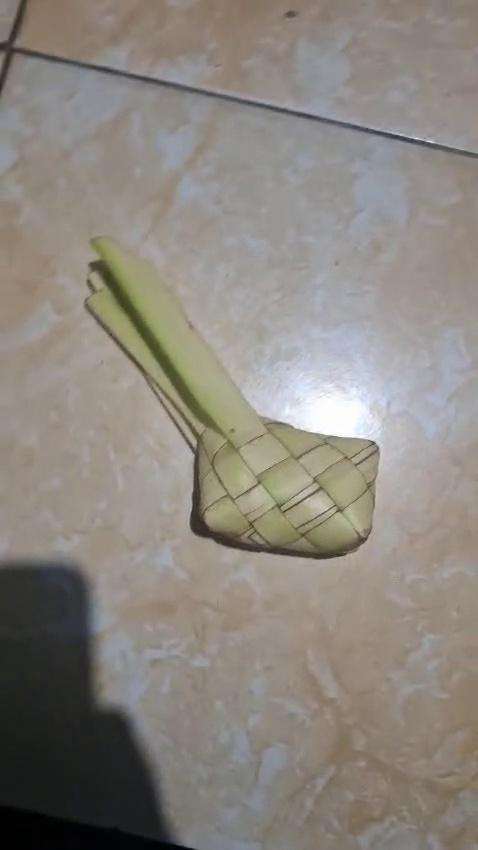Tipat Bantal: (82, 237, 388, 567)
